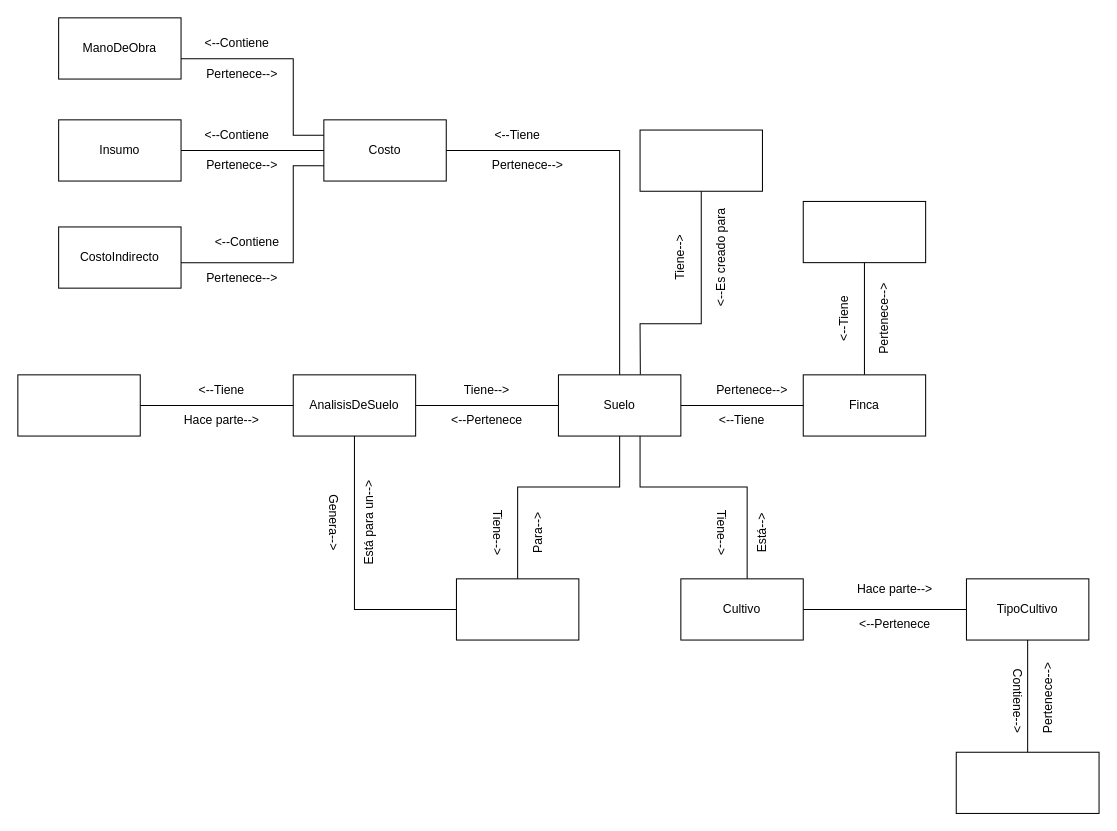
This 1117x831 diagram has some shape labels left out. The shapes that lost their labels are listed below. From the top down, each one's centre as x and y in pixels, then its label:
the point at 700,160: Historial
the point at 864,231: Usuario
the point at 78,405: TipoAnlisisDeSuelo
the point at 517,609: Recomendación
the point at 1027,782: ComponenteNutricional
